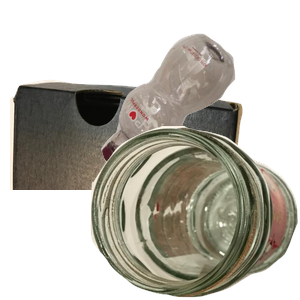cardboard: (10, 77, 245, 257)
glass: (90, 126, 300, 300)
plastic: (99, 31, 300, 189)
trash: (92, 158, 277, 300)
